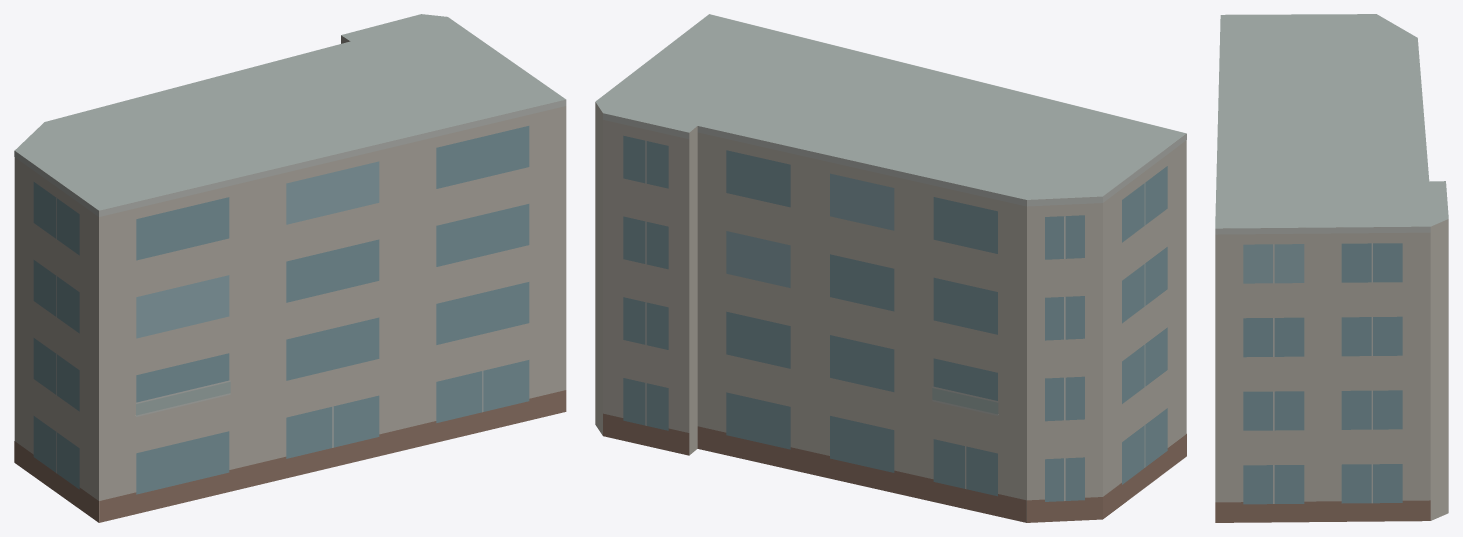
The model's file is survey-upis-32523188.glb.
The picture shows the model from 3 angles, left to right: view 1: azimuth 30°, elevation 25°; view 2: azimuth 150°, elevation 25°; view 3: azimuth 270°, elevation 25°; orthographic projection. The views are drawn at different scales.
Parts seen in each view (by area): view 1: survey-upis-32523188.tmp; view 2: survey-upis-32523188.tmp; view 3: survey-upis-32523188.tmp.
Boxes of the visible parts, x1,y1,x2,y2 form: survey-upis-32523188.tmp: (14,14,566,522); survey-upis-32523188.tmp: (595,14,1186,522); survey-upis-32523188.tmp: (1215,14,1448,522).
Size of the model in its own units: 18.76 by 12 by 8.64.
